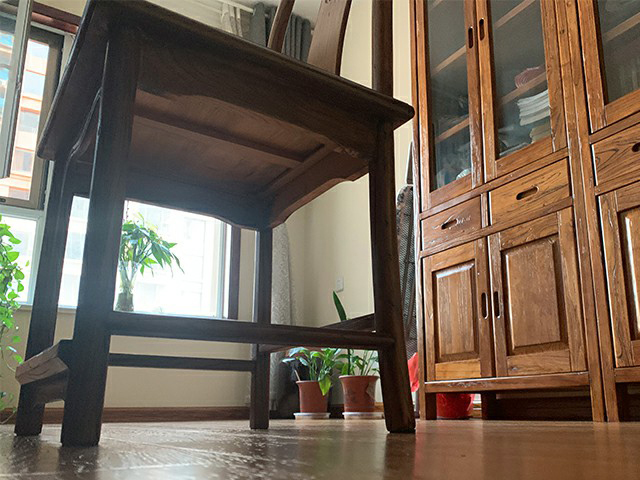cabinet: (408, 115, 640, 422)
stool: (13, 1, 416, 447)
